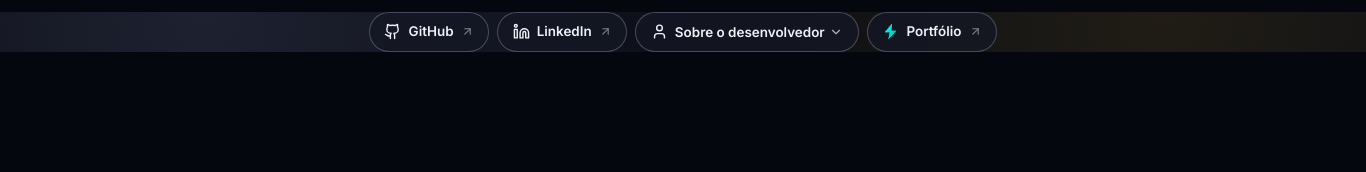
Contact › a caixa "sobre" abre e fecha abaixo do botão
The image size is (1366, 172).
Click the button "Sobre o desenvolvedor" at (747, 32), box left=635, top=12, right=859, bottom=52
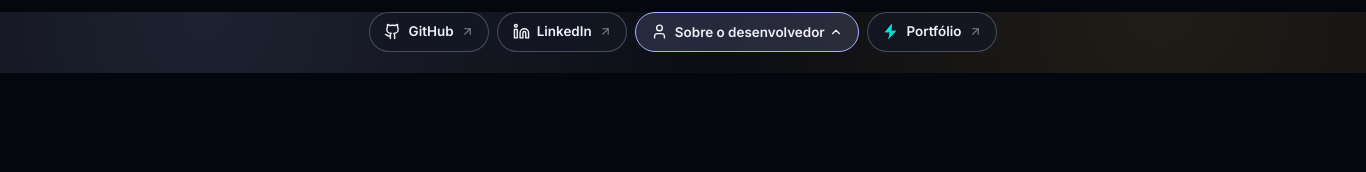
Expected: the button "Sobre o desenvolvedor" is expanded
Click the button "Sobre o desenvolvedor" at (747, 32), box left=635, top=12, right=859, bottom=52
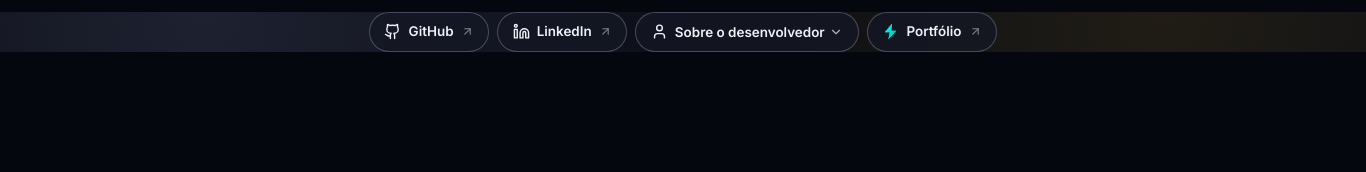
Expected: the button "Sobre o desenvolvedor" is collapsed, left=635, top=12, right=859, bottom=52
